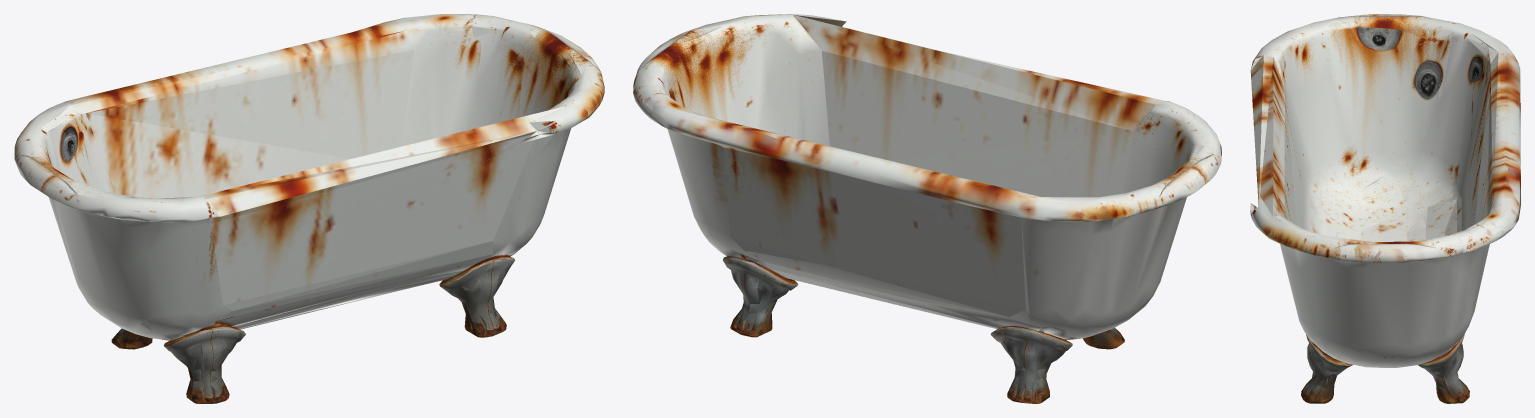
The model's file is Baignoire.fbx.
3 renders of one model, left to right at view 1: azimuth 30°, elevation 25°; view 2: azimuth 150°, elevation 25°; view 3: azimuth 270°, elevation 25°, orthographic. The views are drawn at different scales.
Visible parts, largest first — view 1: Mesh_0; view 2: Mesh_0; view 3: Mesh_0.
Part boxes in pixels (x1=…): Mesh_0: x1=14, y1=14, x2=604, y2=403; Mesh_0: x1=633, y1=14, x2=1221, y2=403; Mesh_0: x1=1250, y1=14, x2=1520, y2=403.
Size of the model in its own units: 190 by 75.79 by 90.28.
Materials: 1 (1 with a texture image).
